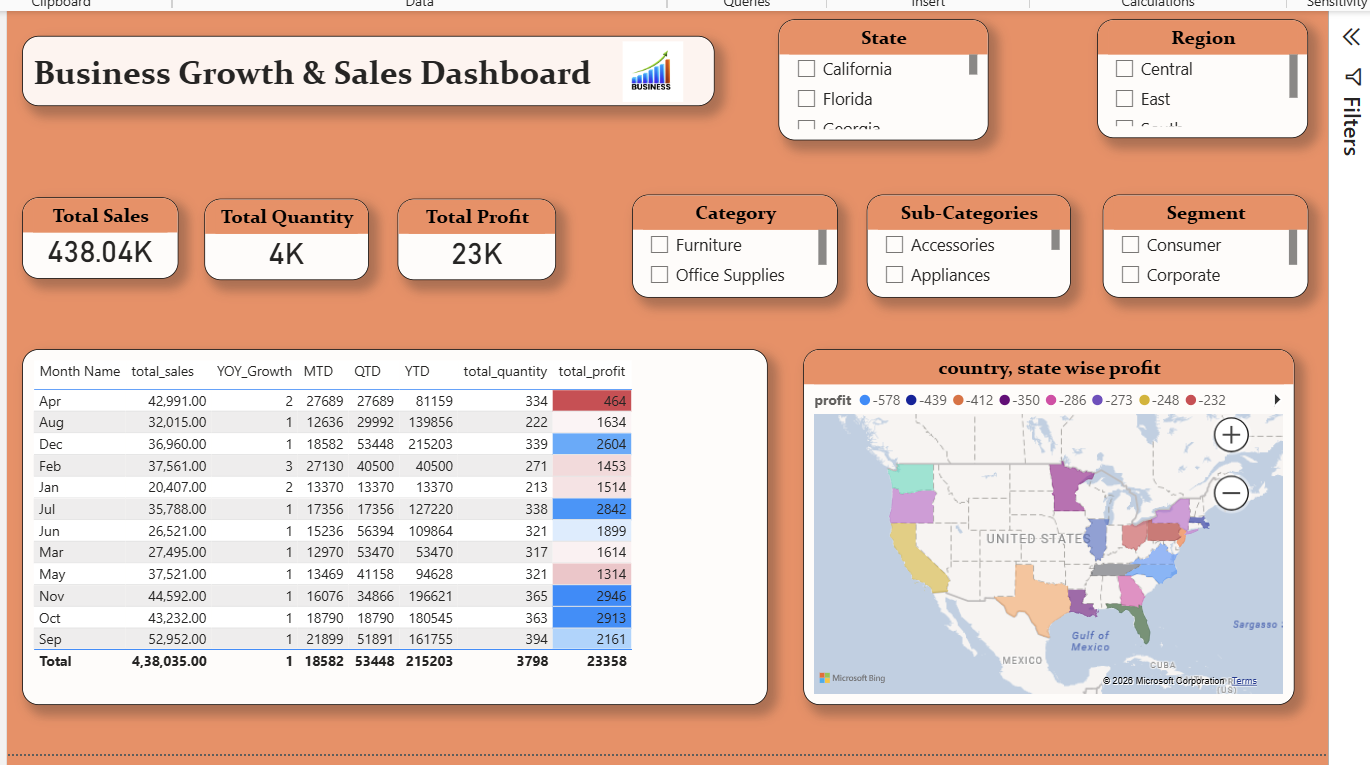

Layout of this report page (visuals, bound fields, positions):
{"tool":"powerbi","page":{"name":"Page 1","canvas":[1280,720],"ordinal":0},"visuals":[{"type":"textbox","box":[14.7,24.1,671.3,68.2],"z":0},{"type":"card","title":"Total Sales","fields":{"Values":["Fact_Sales.total_sales"]},"box":[14.7,180.5,151.1,78.9],"z":1000},{"type":"card","title":"Total Quantity","fields":{"Values":["Fact_Sales.total_quantity"]},"box":[191.2,181.9,159.1,78.9],"z":2000},{"type":"card","title":"Total Profit","fields":{"Values":["Fact_Sales.total_profit"]},"box":[378.5,181.9,153.8,78.9],"z":3000},{"type":"slicer","title":"Segment","fields":{"Values":["Dim_Customer.segment"]},"box":[1061.8,177.9,199.3,100.3],"z":4000},{"type":"slicer","title":"Region","fields":{"Values":["Dim_Geography.region"]},"box":[1056.5,8,204.6,115],"z":5000},{"type":"slicer","title":"State","fields":{"Values":["Dim_Geography.state"]},"box":[747.6,8,203.3,117.7],"z":6000},{"type":"slicer","title":"Category","fields":{"Values":["Dim_Product.category"]},"box":[605.8,177.9,199.3,100.3],"z":7000},{"type":"slicer","title":"Sub-Categories","fields":{"Values":["Dim_Product.sub_category"]},"box":[833.1,177.9,197.9,100.3],"z":8000},{"type":"tableEx","fields":{"Values":["DateTable.Month Name","Fact_Sales.total_sales","Fact_Sales.YOY_Growth","Fact_Sales.MTD","Fact_Sales.QTD","Fact_Sales.YTD","Fact_Sales.total_quantity","Fact_Sales.total_profit"]},"box":[14.7,327.6,722.2,345],"z":9000},{"type":"filledMap","title":"country, state wise profit","fields":{"Category":["Dim_Geography.country","Dim_Geography.state","Dim_Geography.city"],"Series":["Fact_Sales.profit"]},"box":[771.6,327.6,476.1,345],"z":10000},{"type":"image","box":[568.4,29.4,115,58.8],"z":11000}]}

Visuals, with their boxes on the page's 1280x720 design canvas (x1, y1, x2, y2). These are canvas units, not pixel positions in the 1370x765 screenshot, which may show the page scaled, cropped or inside an application window:
textbox: [left=15, top=24, right=686, bottom=92]
"Total Sales" card: [left=15, top=180, right=166, bottom=259]
"Total Quantity" card: [left=191, top=182, right=350, bottom=261]
"Total Profit" card: [left=378, top=182, right=532, bottom=261]
"Segment" slicer: [left=1062, top=178, right=1261, bottom=278]
"Region" slicer: [left=1056, top=8, right=1261, bottom=123]
"State" slicer: [left=748, top=8, right=951, bottom=126]
"Category" slicer: [left=606, top=178, right=805, bottom=278]
"Sub-Categories" slicer: [left=833, top=178, right=1031, bottom=278]
tableEx - DateTable.Month Name x Fact_Sales.total_sales: [left=15, top=328, right=737, bottom=673]
"country, state wise profit" filledMap: [left=772, top=328, right=1248, bottom=673]
image: [left=568, top=29, right=683, bottom=88]
